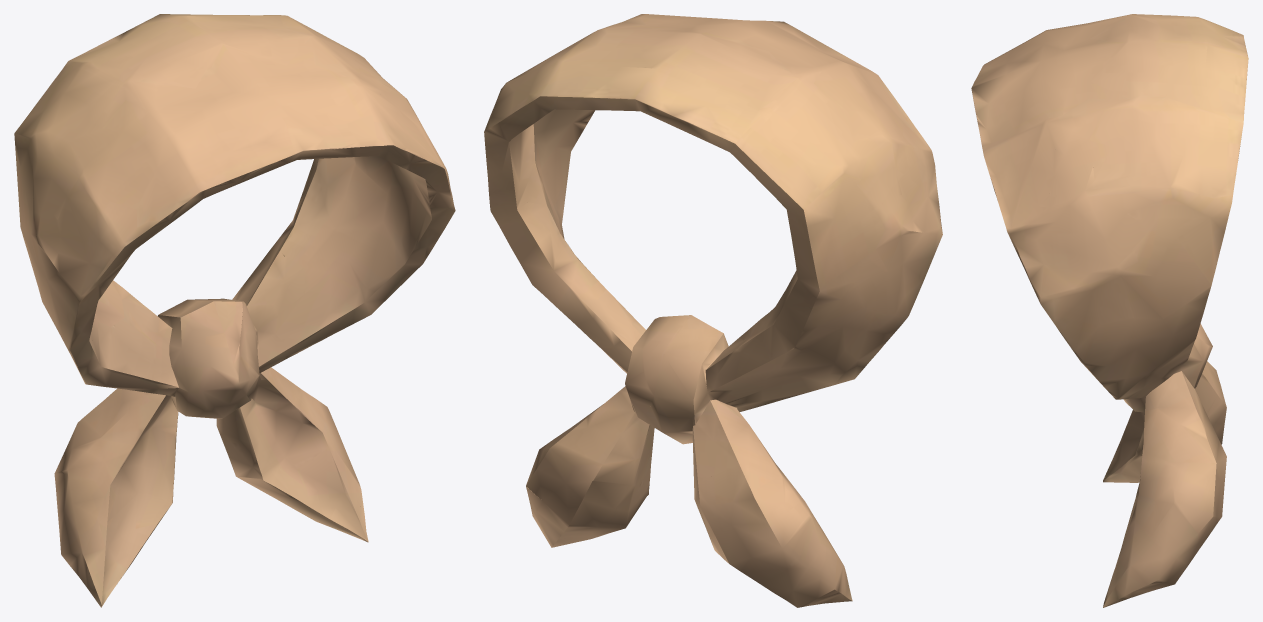
Rendered from hat_bandana_idle.glb.
3 views of the same model, side by side, from view 1: azimuth 30°, elevation 25°; view 2: azimuth 150°, elevation 25°; view 3: azimuth 270°, elevation 25° (orthographic). The views are drawn at different scales.
Visible parts, largest first — view 1: tripo_node_b8949485-6a85-4c10-bbc2-4c26562935c1; view 2: tripo_node_b8949485-6a85-4c10-bbc2-4c26562935c1; view 3: tripo_node_b8949485-6a85-4c10-bbc2-4c26562935c1.
Boxes of the visible parts, left/top/right/bottom form: tripo_node_b8949485-6a85-4c10-bbc2-4c26562935c1: left=14, top=14, right=455, bottom=607; tripo_node_b8949485-6a85-4c10-bbc2-4c26562935c1: left=484, top=14, right=942, bottom=607; tripo_node_b8949485-6a85-4c10-bbc2-4c26562935c1: left=971, top=14, right=1248, bottom=607.
Size of the model in its own units: 0.2288 by 0.3 by 0.1497.
1 material, 1 textured.
